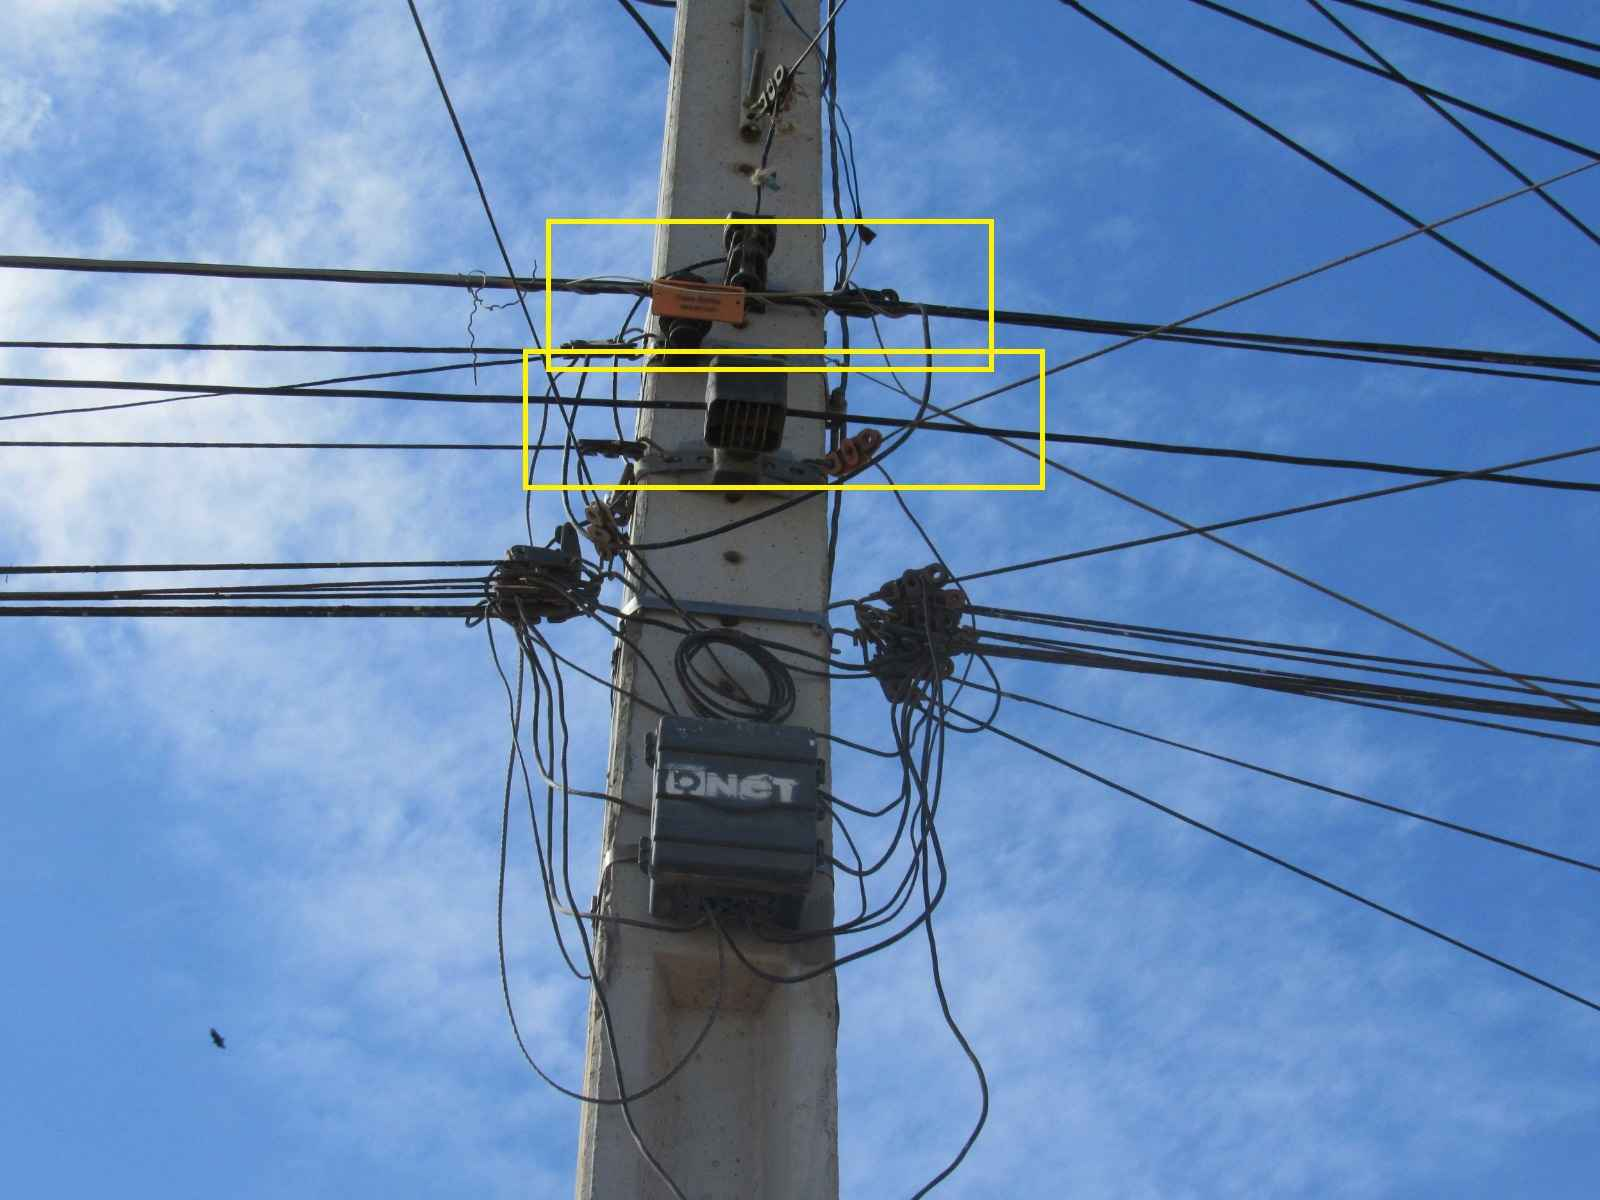caixa_derivacao: (644, 716, 829, 926)
drop: (843, 539, 1056, 735), (436, 519, 605, 667), (804, 407, 898, 482), (552, 424, 658, 478)
fibra_optica: (621, 234, 915, 326), (682, 350, 795, 465)
nivel_fixacao1: (1, 566, 1600, 755)
nivel_fixacao3: (8, 189, 1600, 371), (11, 382, 1592, 516)
